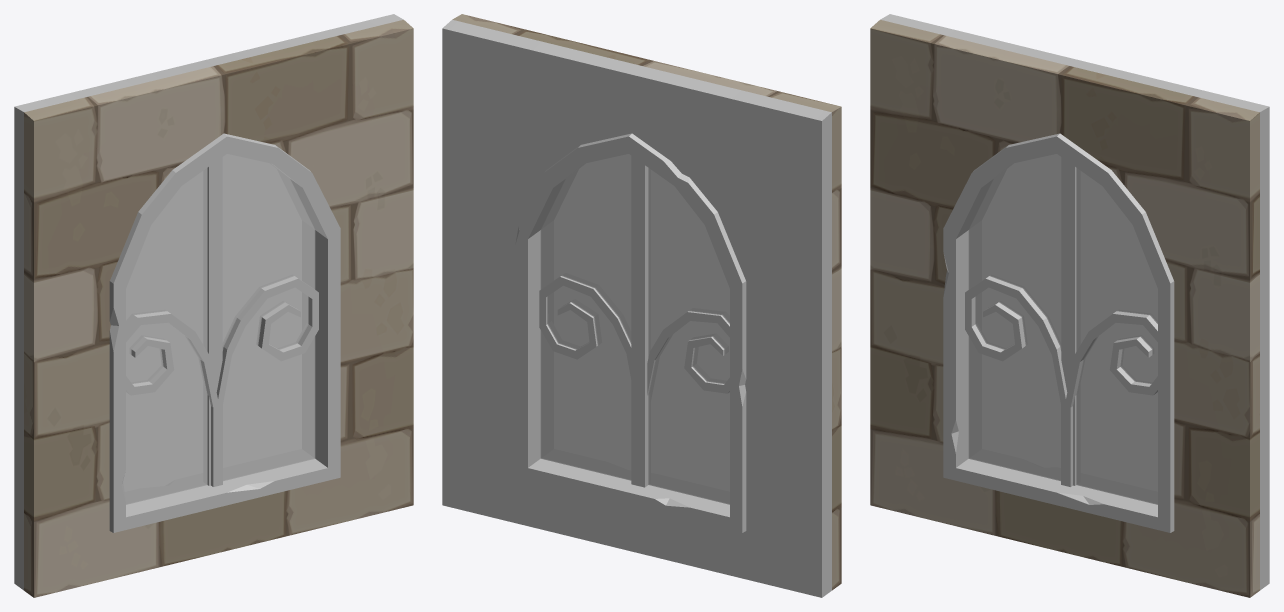
The model's file is SM_Bld_Wall_Window_02.fbx.
3 views of the same model, side by side, from view 1: azimuth 30°, elevation 25°; view 2: azimuth 150°, elevation 25°; view 3: azimuth 330°, elevation 25° (orthographic).
Visible parts, largest first — view 1: SM_Bld_Wall_Window_02, SM_Bld_Wall_Window_02_Glass; view 2: SM_Bld_Wall_Window_02, SM_Bld_Wall_Window_02_Glass; view 3: SM_Bld_Wall_Window_02, SM_Bld_Wall_Window_02_Glass.
Part boxes in pixels (bbox=[...]): SM_Bld_Wall_Window_02: bbox=[14, 14, 413, 597]; SM_Bld_Wall_Window_02_Glass: bbox=[123, 154, 315, 504]; SM_Bld_Wall_Window_02: bbox=[442, 14, 841, 597]; SM_Bld_Wall_Window_02_Glass: bbox=[540, 154, 729, 504]; SM_Bld_Wall_Window_02: bbox=[870, 14, 1269, 597]; SM_Bld_Wall_Window_02_Glass: bbox=[968, 154, 1157, 504].
Size of the model in its own units: 250 by 301 by 29.88.
